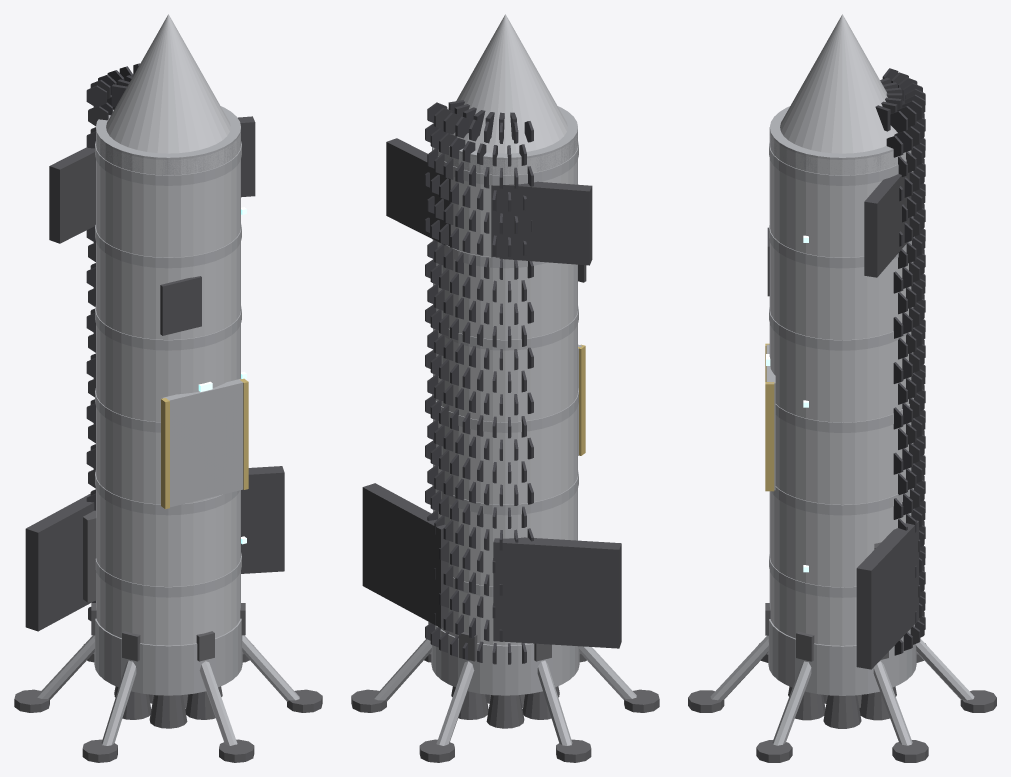
File: subship.glb
The picture shows the model from 3 angles, left to right: view 1: azimuth 30°, elevation 25°; view 2: azimuth 150°, elevation 25°; view 3: azimuth 270°, elevation 25°; orthographic projection.
Visible parts, largest first — view 1: body, nose, hatch, aft_flap_-1, skirt, aft_flap_1, fwd_flap_-1, shoulder, markpanel, ring_8, ring_2, ring_10 (+18 smaller); view 2: body, aft_flap_-1, aft_flap_1, nose, fwd_flap_-1, skirt, fwd_flap_1, shoulder, ring_4, ring_8, ring_6, leg_2 (+13 smaller); view 3: body, nose, aft_flap_1, skirt, fwd_flap_1, shoulder, ring_12, ring_8, ring_4, ring_6, ring_10, leg_5 (+12 smaller).
Part boxes in pixels (left/top/right/bottom): body: left=96, top=131, right=240, bottom=645; nose: left=106, top=14, right=230, bottom=153; hatch: left=163, top=378, right=243, bottom=507; aft_flap_-1: left=25, top=493, right=94, bottom=631; skirt: left=94, top=618, right=242, bottom=695; aft_flap_1: left=241, top=466, right=284, bottom=573; fwd_flap_-1: left=49, top=147, right=95, bottom=243; shoulder: left=96, top=106, right=240, bottom=175; markpanel: left=160, top=276, right=201, bottom=335; ring_8: left=95, top=306, right=241, bottom=350; ring_2: left=95, top=553, right=241, bottom=597; ring_10: left=95, top=224, right=241, bottom=268; body: left=433, top=132, right=577, bottom=645; aft_flap_-1: left=493, top=537, right=621, bottom=648; aft_flap_1: left=362, top=483, right=448, bottom=627; nose: left=451, top=14, right=567, bottom=153; fwd_flap_-1: left=491, top=181, right=592, bottom=265; skirt: left=431, top=625, right=579, bottom=695; fwd_flap_1: left=386, top=138, right=450, bottom=246; shoulder: left=438, top=106, right=577, bottom=175; ring_4: left=432, top=470, right=578, bottom=515; ring_8: left=437, top=306, right=578, bottom=350; ring_6: left=432, top=388, right=578, bottom=432; leg_2: left=537, top=660, right=572, bottom=745; body: left=769, top=130, right=913, bottom=645; nose: left=780, top=14, right=897, bottom=153; aft_flap_1: left=856, top=520, right=918, bottom=669; skirt: left=768, top=619, right=916, bottom=695; fwd_flap_1: left=864, top=172, right=911, bottom=277; shoulder: left=769, top=106, right=911, bottom=174; ring_12: left=769, top=143, right=906, bottom=185; ring_8: left=769, top=307, right=908, bottom=350; ring_4: left=771, top=486, right=913, bottom=515; ring_6: left=775, top=398, right=913, bottom=432; ring_10: left=769, top=225, right=914, bottom=268; leg_5: left=772, top=661, right=811, bottom=745.
Size of the model in its own units: 6.53 by 16.8 by 6.8.
